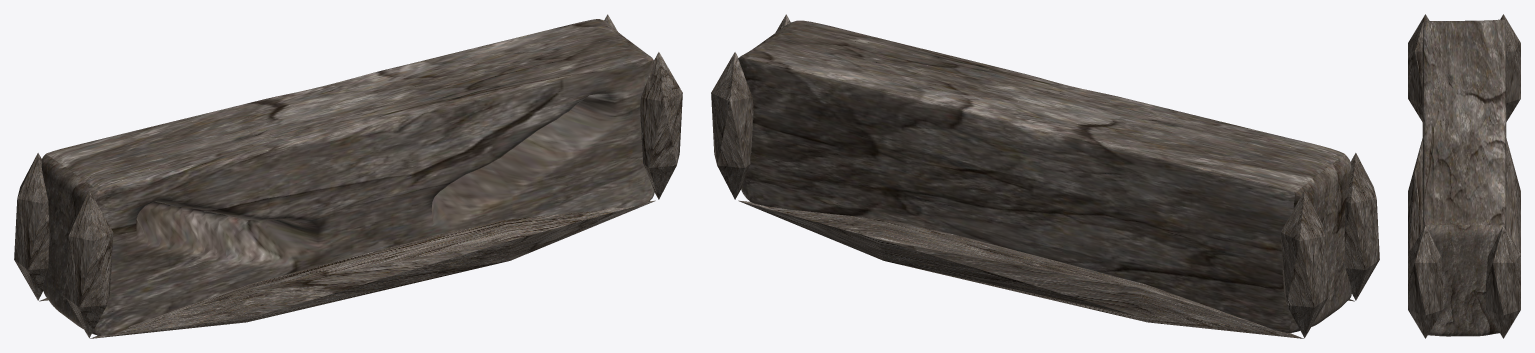
The model's file is boss.obj.
The picture shows the model from 3 angles, left to right: view 1: azimuth 30°, elevation 25°; view 2: azimuth 150°, elevation 25°; view 3: azimuth 270°, elevation 25°; orthographic projection. The views are drawn at different scales.
Visible parts, largest first — view 1: Front_tags1; view 2: Front_tags1; view 3: Front_tags1.
Boxes of the visible parts, x1=… form: Front_tags1: x1=14, y1=14, x2=682, y2=338; Front_tags1: x1=711, y1=14, x2=1379, y2=338; Front_tags1: x1=1408, y1=14, x2=1520, y2=338.
Bounding box in the file's own units: 6.44 × 1.72 × 1.35.
1 material, 1 textured.
